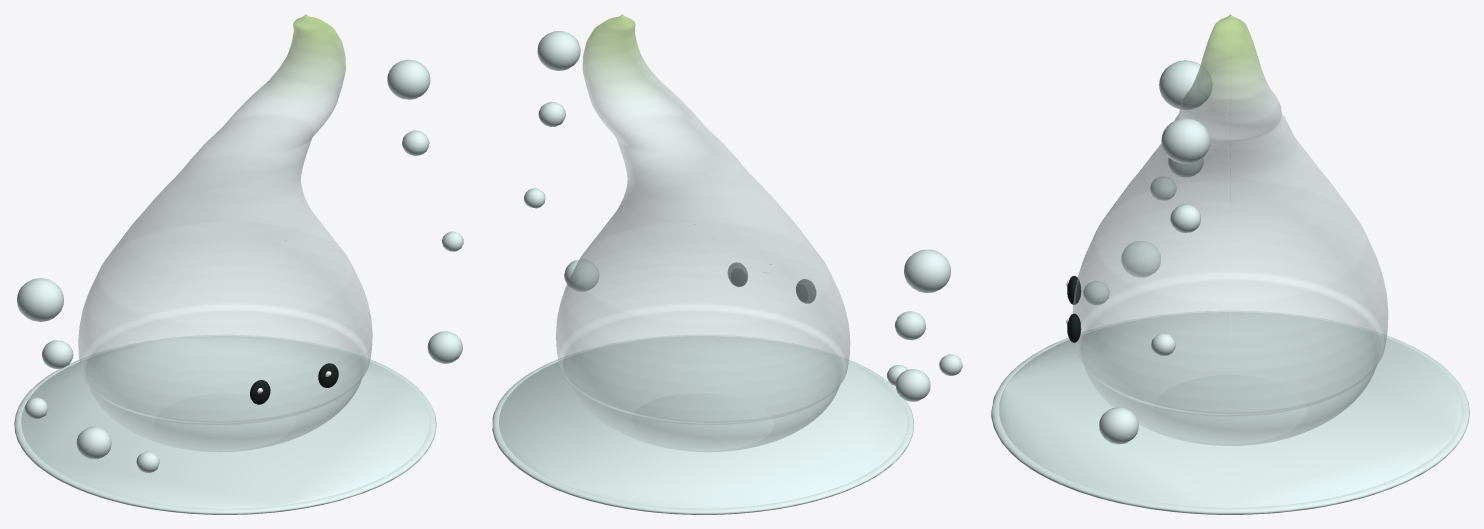
Rendered from shizuku.glb.
3 views of the same model, side by side, from view 1: azimuth 30°, elevation 25°; view 2: azimuth 150°, elevation 25°; view 3: azimuth 270°, elevation 25° (orthographic). The views are drawn at different scales.
Visible parts, largest first — view 1: Mesh_0; view 2: Mesh_0; view 3: Mesh_0.
Part boxes in pixels (x1,y1,x2,y2): Mesh_0: (14, 14, 463, 514); Mesh_0: (492, 14, 962, 514); Mesh_0: (991, 14, 1469, 514).
Size of the model in its own units: 1.33 by 1.16 by 1.11.
